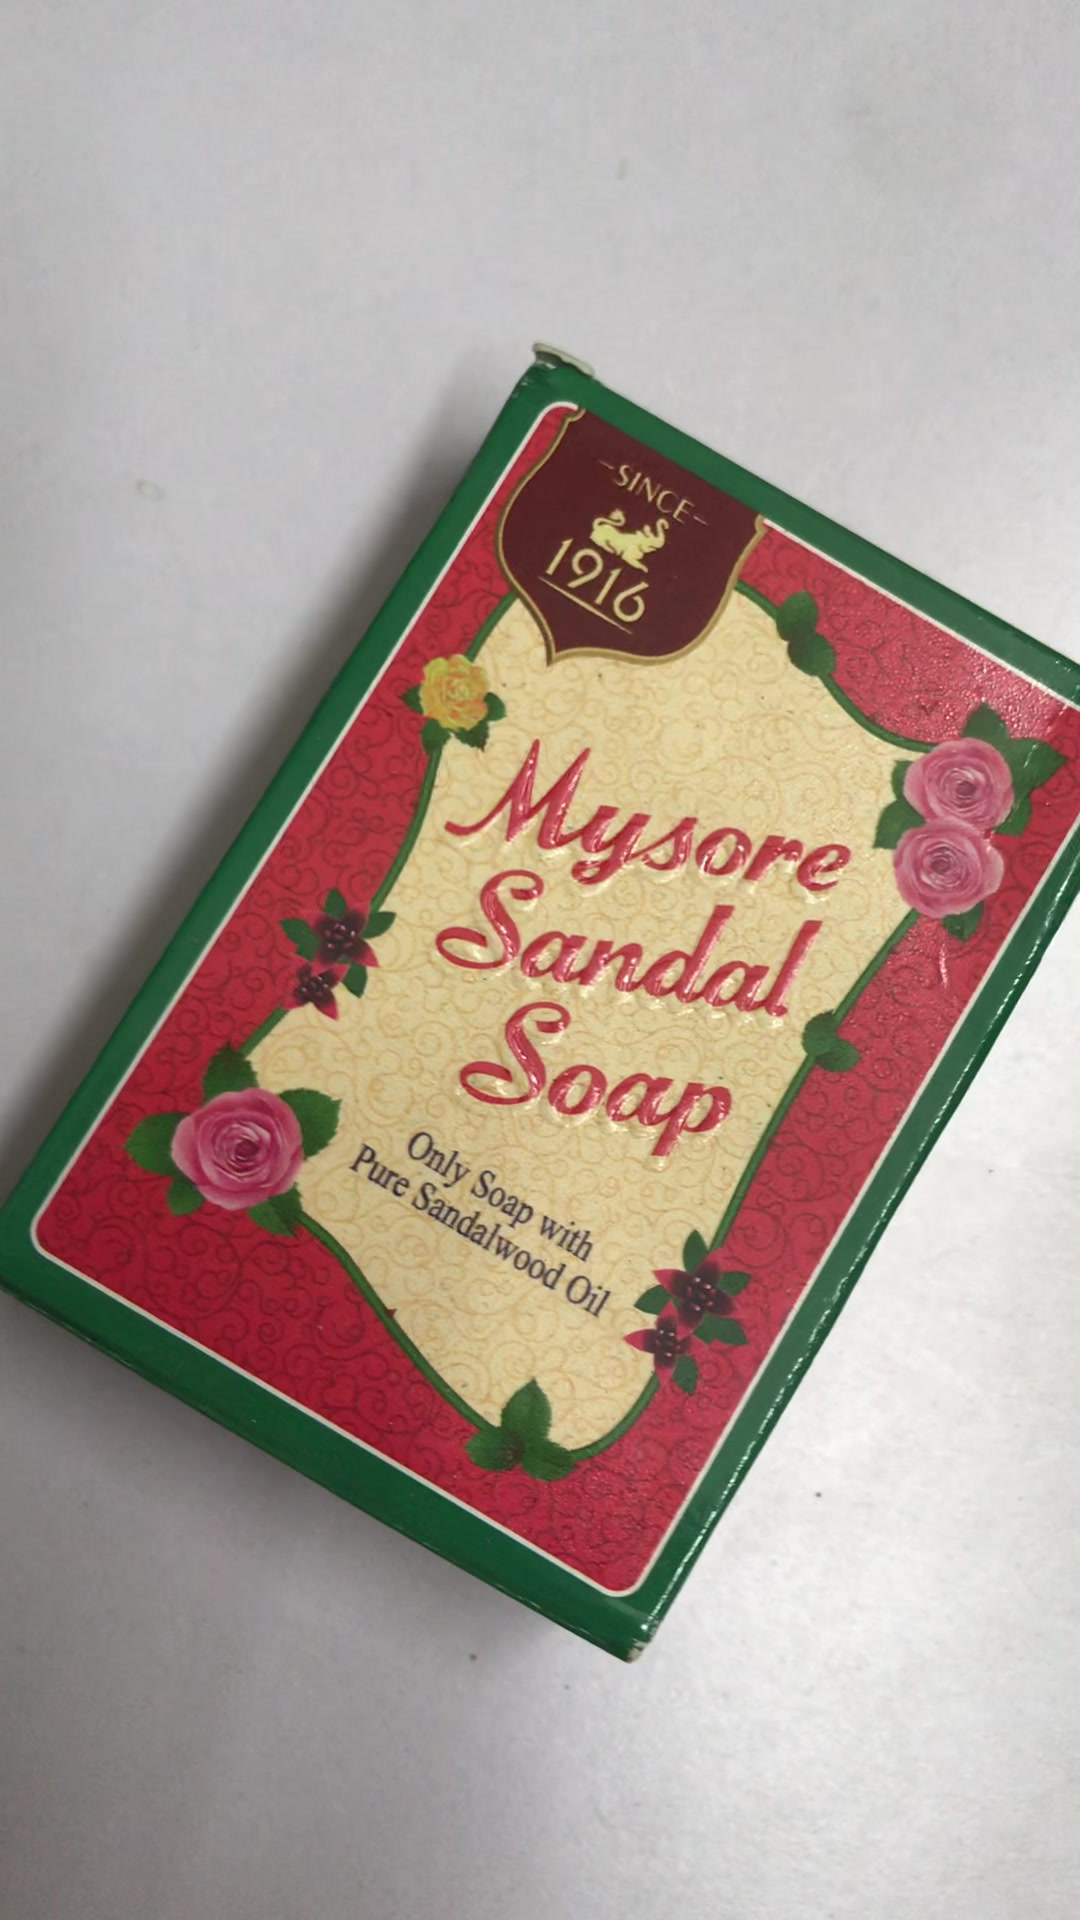mysore sandal soap: (9, 353, 1080, 1662)
